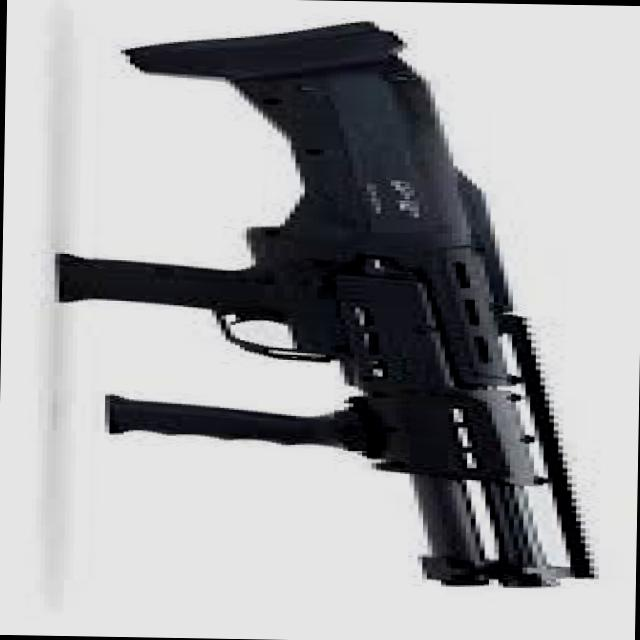long weapon: (29, 9, 614, 595)
